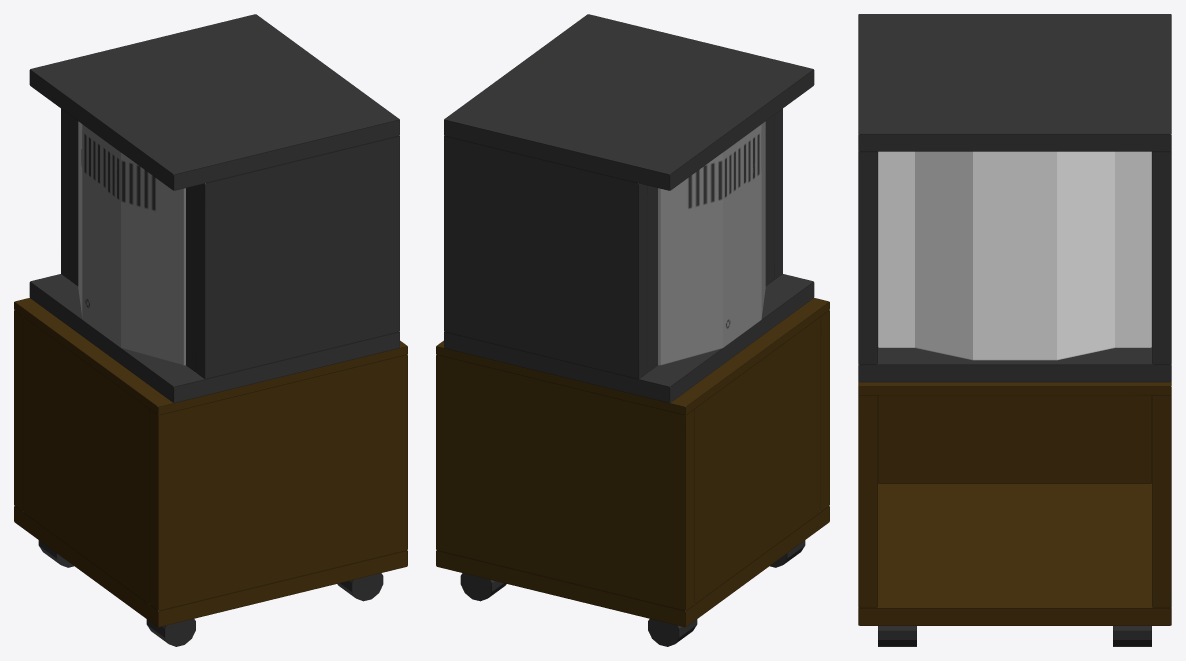
The model's file is ScreenMan.fbx.
3 renders of one model, left to right at view 1: azimuth 30°, elevation 25°; view 2: azimuth 150°, elevation 25°; view 3: azimuth 270°, elevation 25°, orthographic. The views are drawn at different scales.
Visible parts, largest first — view 1: cylinder, cube, Wheel 4; view 2: cylinder, cube, Wheel 4; view 3: cylinder, cube, Wheel 4.
Boxes of the visible parts, x1=… form: cylinder: x1=29, y1=14, x2=399, y2=402; cube: x1=14, y1=298, x2=407, y2=627; Wheel 4: x1=38, y1=540, x2=383, y2=646; cylinder: x1=444, y1=14, x2=814, y2=402; cube: x1=436, y1=298, x2=829, y2=627; Wheel 4: x1=460, y1=540, x2=805, y2=646; cylinder: x1=858, y1=14, x2=1171, y2=382; cube: x1=858, y1=364, x2=1171, y2=625; Wheel 4: x1=878, y1=626, x2=1151, y2=646.
Size of the model in its own units: 100 by 184 by 100.
Materials: 3 (3 with a texture image).
